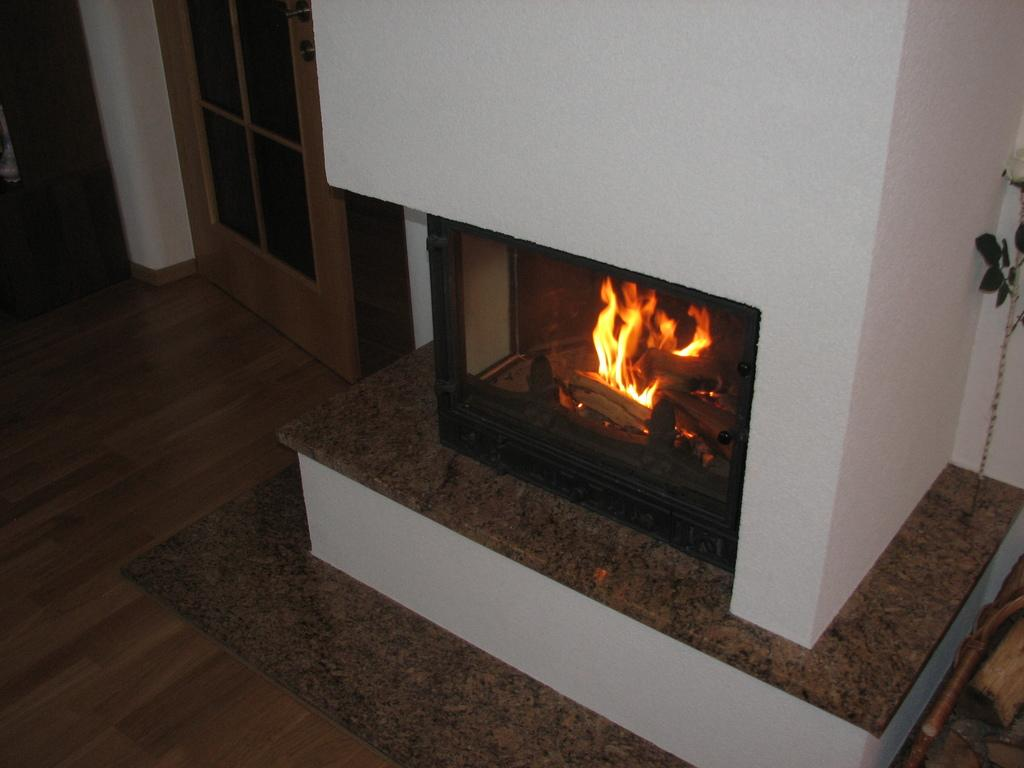Fire: (581, 281, 719, 426)
